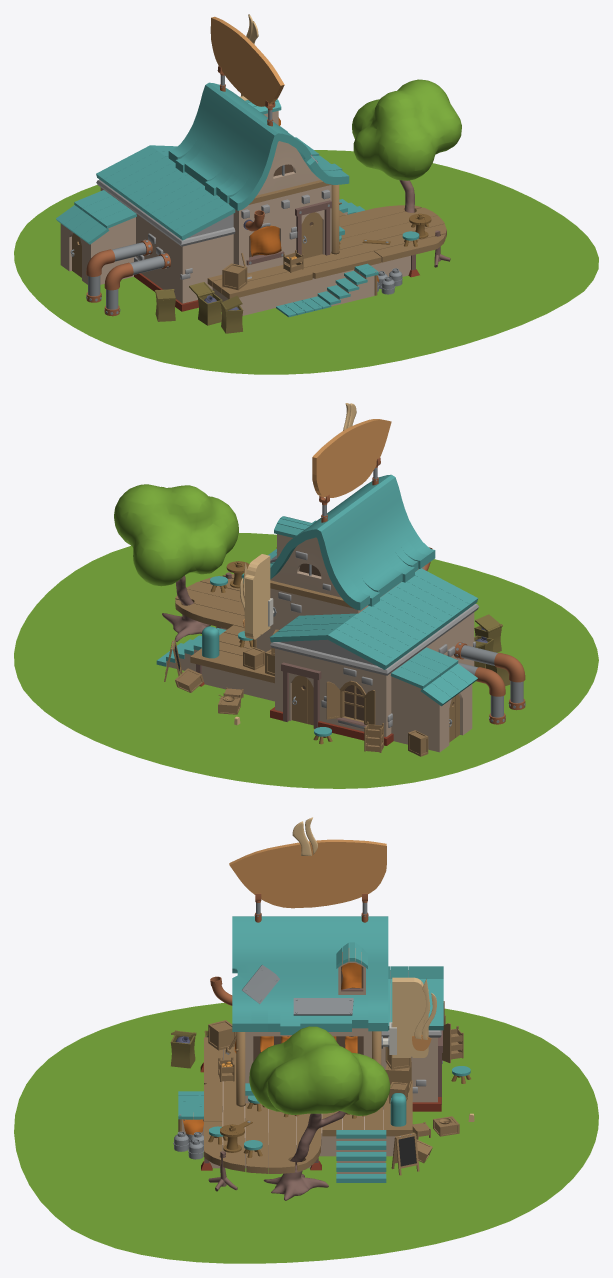
The picture shows the model from 3 angles, top to bottom: view 1: azimuth 30°, elevation 25°; view 2: azimuth 150°, elevation 25°; view 3: azimuth 270°, elevation 25°; orthographic projection. The views are drawn at different scales.
Visible parts, largest first — view 1: Plane.013, Mball.008, Plane.009, Plane.024, Plane.004, Vert, Plane.001, Cube.016, Cube.012, Plane.008, Cube.029, Cube.026 (+20 smaller); view 2: Plane.013, Mball.008, Plane.024, Plane.004, Plane.009, Vert, Cube.026, Cube.016, Cube.029, Cube.018, Cube.039, Plane.005 (+20 smaller); view 3: Plane.013, Mball.008, Plane.009, Vert, Cube.016, Cube.018, Cube.015, Cube.030, Cube.039, Cube.012, Cylinder.026, Cube.007 (+15 smaller).
Boxes of the visible parts, bbox=[...] form: Plane.013: bbox=[14, 150, 598, 374]; Mball.008: bbox=[352, 79, 461, 180]; Plane.009: bbox=[207, 205, 446, 298]; Plane.024: bbox=[96, 145, 235, 240]; Plane.004: bbox=[100, 187, 233, 303]; Vert: bbox=[210, 16, 284, 106]; Plane.001: bbox=[239, 185, 331, 273]; Cube.016: bbox=[184, 94, 319, 185]; Cube.012: bbox=[229, 127, 349, 210]; Plane.008: bbox=[212, 255, 410, 315]; Cube.029: bbox=[56, 190, 136, 244]; Cube.026: bbox=[60, 217, 135, 284]; Plane.013: bbox=[14, 533, 598, 788]; Mball.008: bbox=[114, 484, 238, 586]; Plane.024: bbox=[328, 568, 478, 669]; Plane.004: bbox=[275, 612, 474, 736]; Plane.009: bbox=[175, 574, 274, 683]; Vert: bbox=[312, 419, 391, 497]; Cube.026: bbox=[391, 676, 472, 752]; Cube.016: bbox=[268, 498, 402, 597]; Cube.029: bbox=[390, 647, 477, 706]; Cube.018: bbox=[241, 522, 369, 610]; Cube.039: bbox=[244, 554, 270, 639]; Plane.005: bbox=[270, 537, 340, 597]; Plane.013: bbox=[14, 1003, 598, 1263]; Mball.008: bbox=[249, 1026, 390, 1115]; Plane.009: bbox=[204, 1037, 412, 1173]; Vert: bbox=[229, 839, 386, 908]; Cube.016: bbox=[300, 916, 351, 1031]; Cube.018: bbox=[368, 916, 388, 1031]; Cube.015: bbox=[280, 916, 300, 1034]; Cube.030: bbox=[336, 1130, 386, 1182]; Cube.039: bbox=[392, 977, 428, 1057]; Cube.012: bbox=[232, 916, 251, 1031]; Cylinder.026: bbox=[263, 1111, 345, 1200]; Cube.007: bbox=[251, 916, 267, 1031].
Size of the model in its own units: 30.53 by 15.51 by 28.43.
